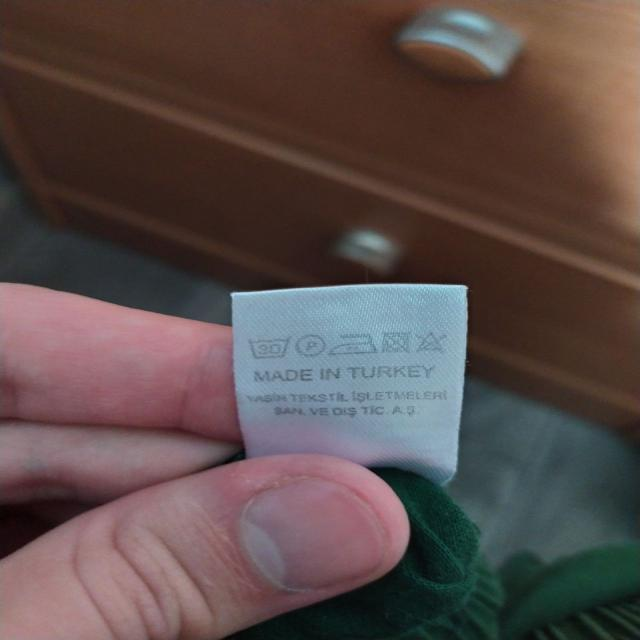30C: (246, 335, 292, 363)
DN_bleach: (414, 330, 450, 356)
DN_tumble_dry: (380, 329, 411, 355)
dry_clean_any_solvent_except_trichloroethylene: (297, 333, 327, 360)
iron_medium: (329, 330, 378, 360)
